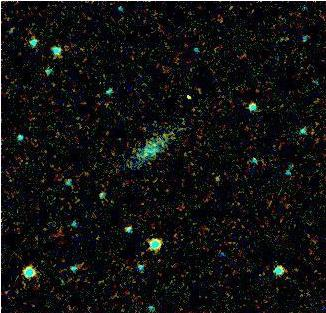star: (176, 81, 206, 111)
